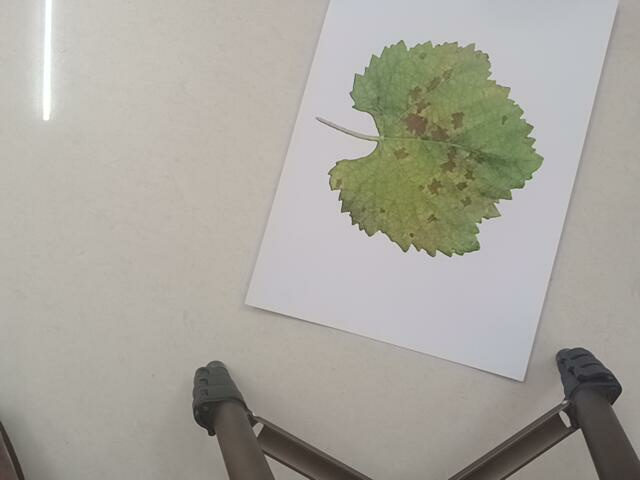Grape_Leaf_Vine_Disease: (313, 29, 545, 267)
